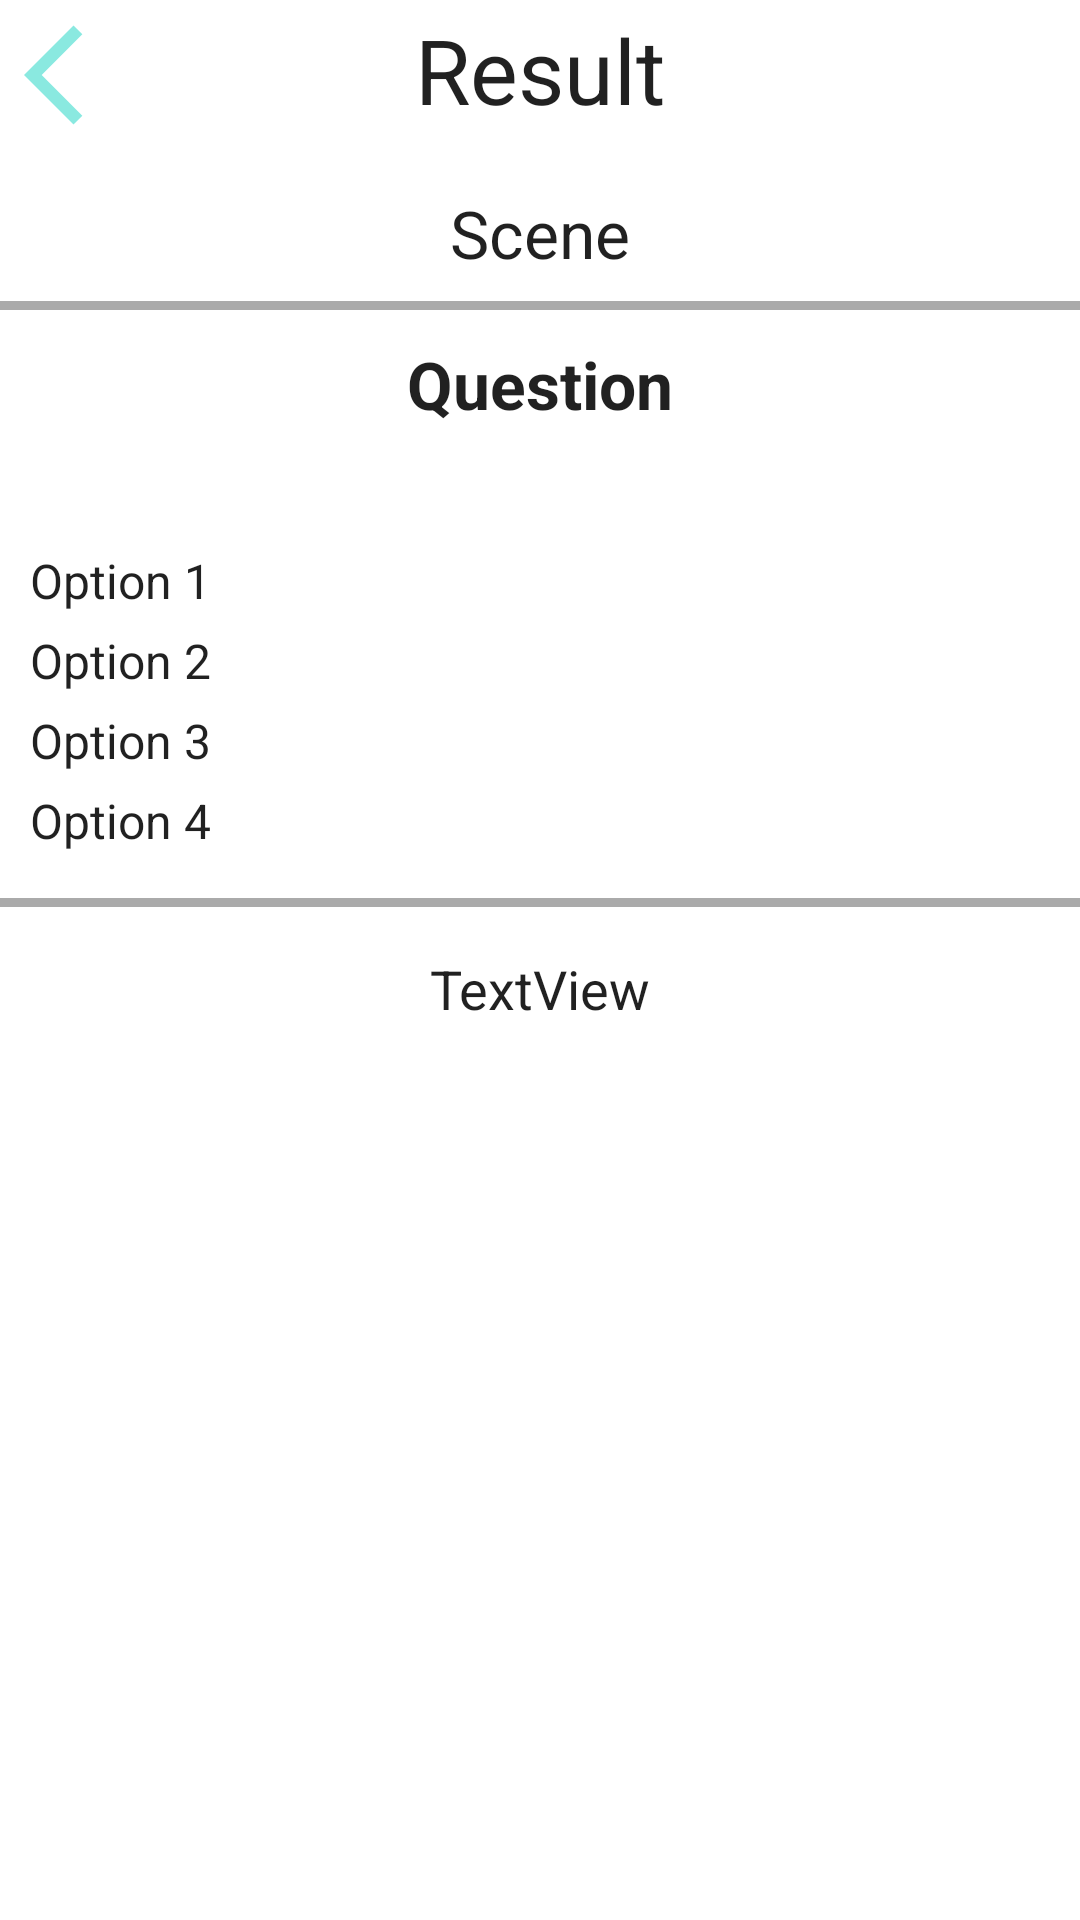

Where icons sit on this 1080 × 1920 app screen, as (x1, y1, x2, y2):
getback: (24, 25, 82, 125)
